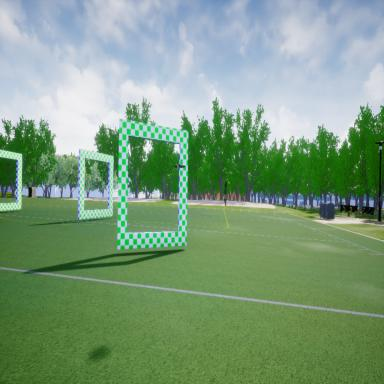gate: (116, 111, 192, 257), (78, 142, 114, 223)
